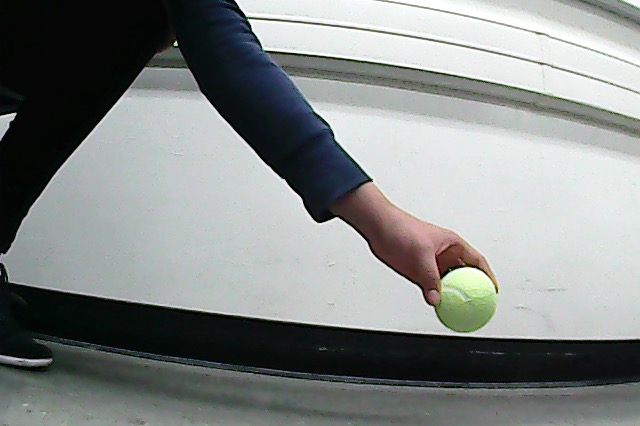ball: (429, 264, 501, 334)
